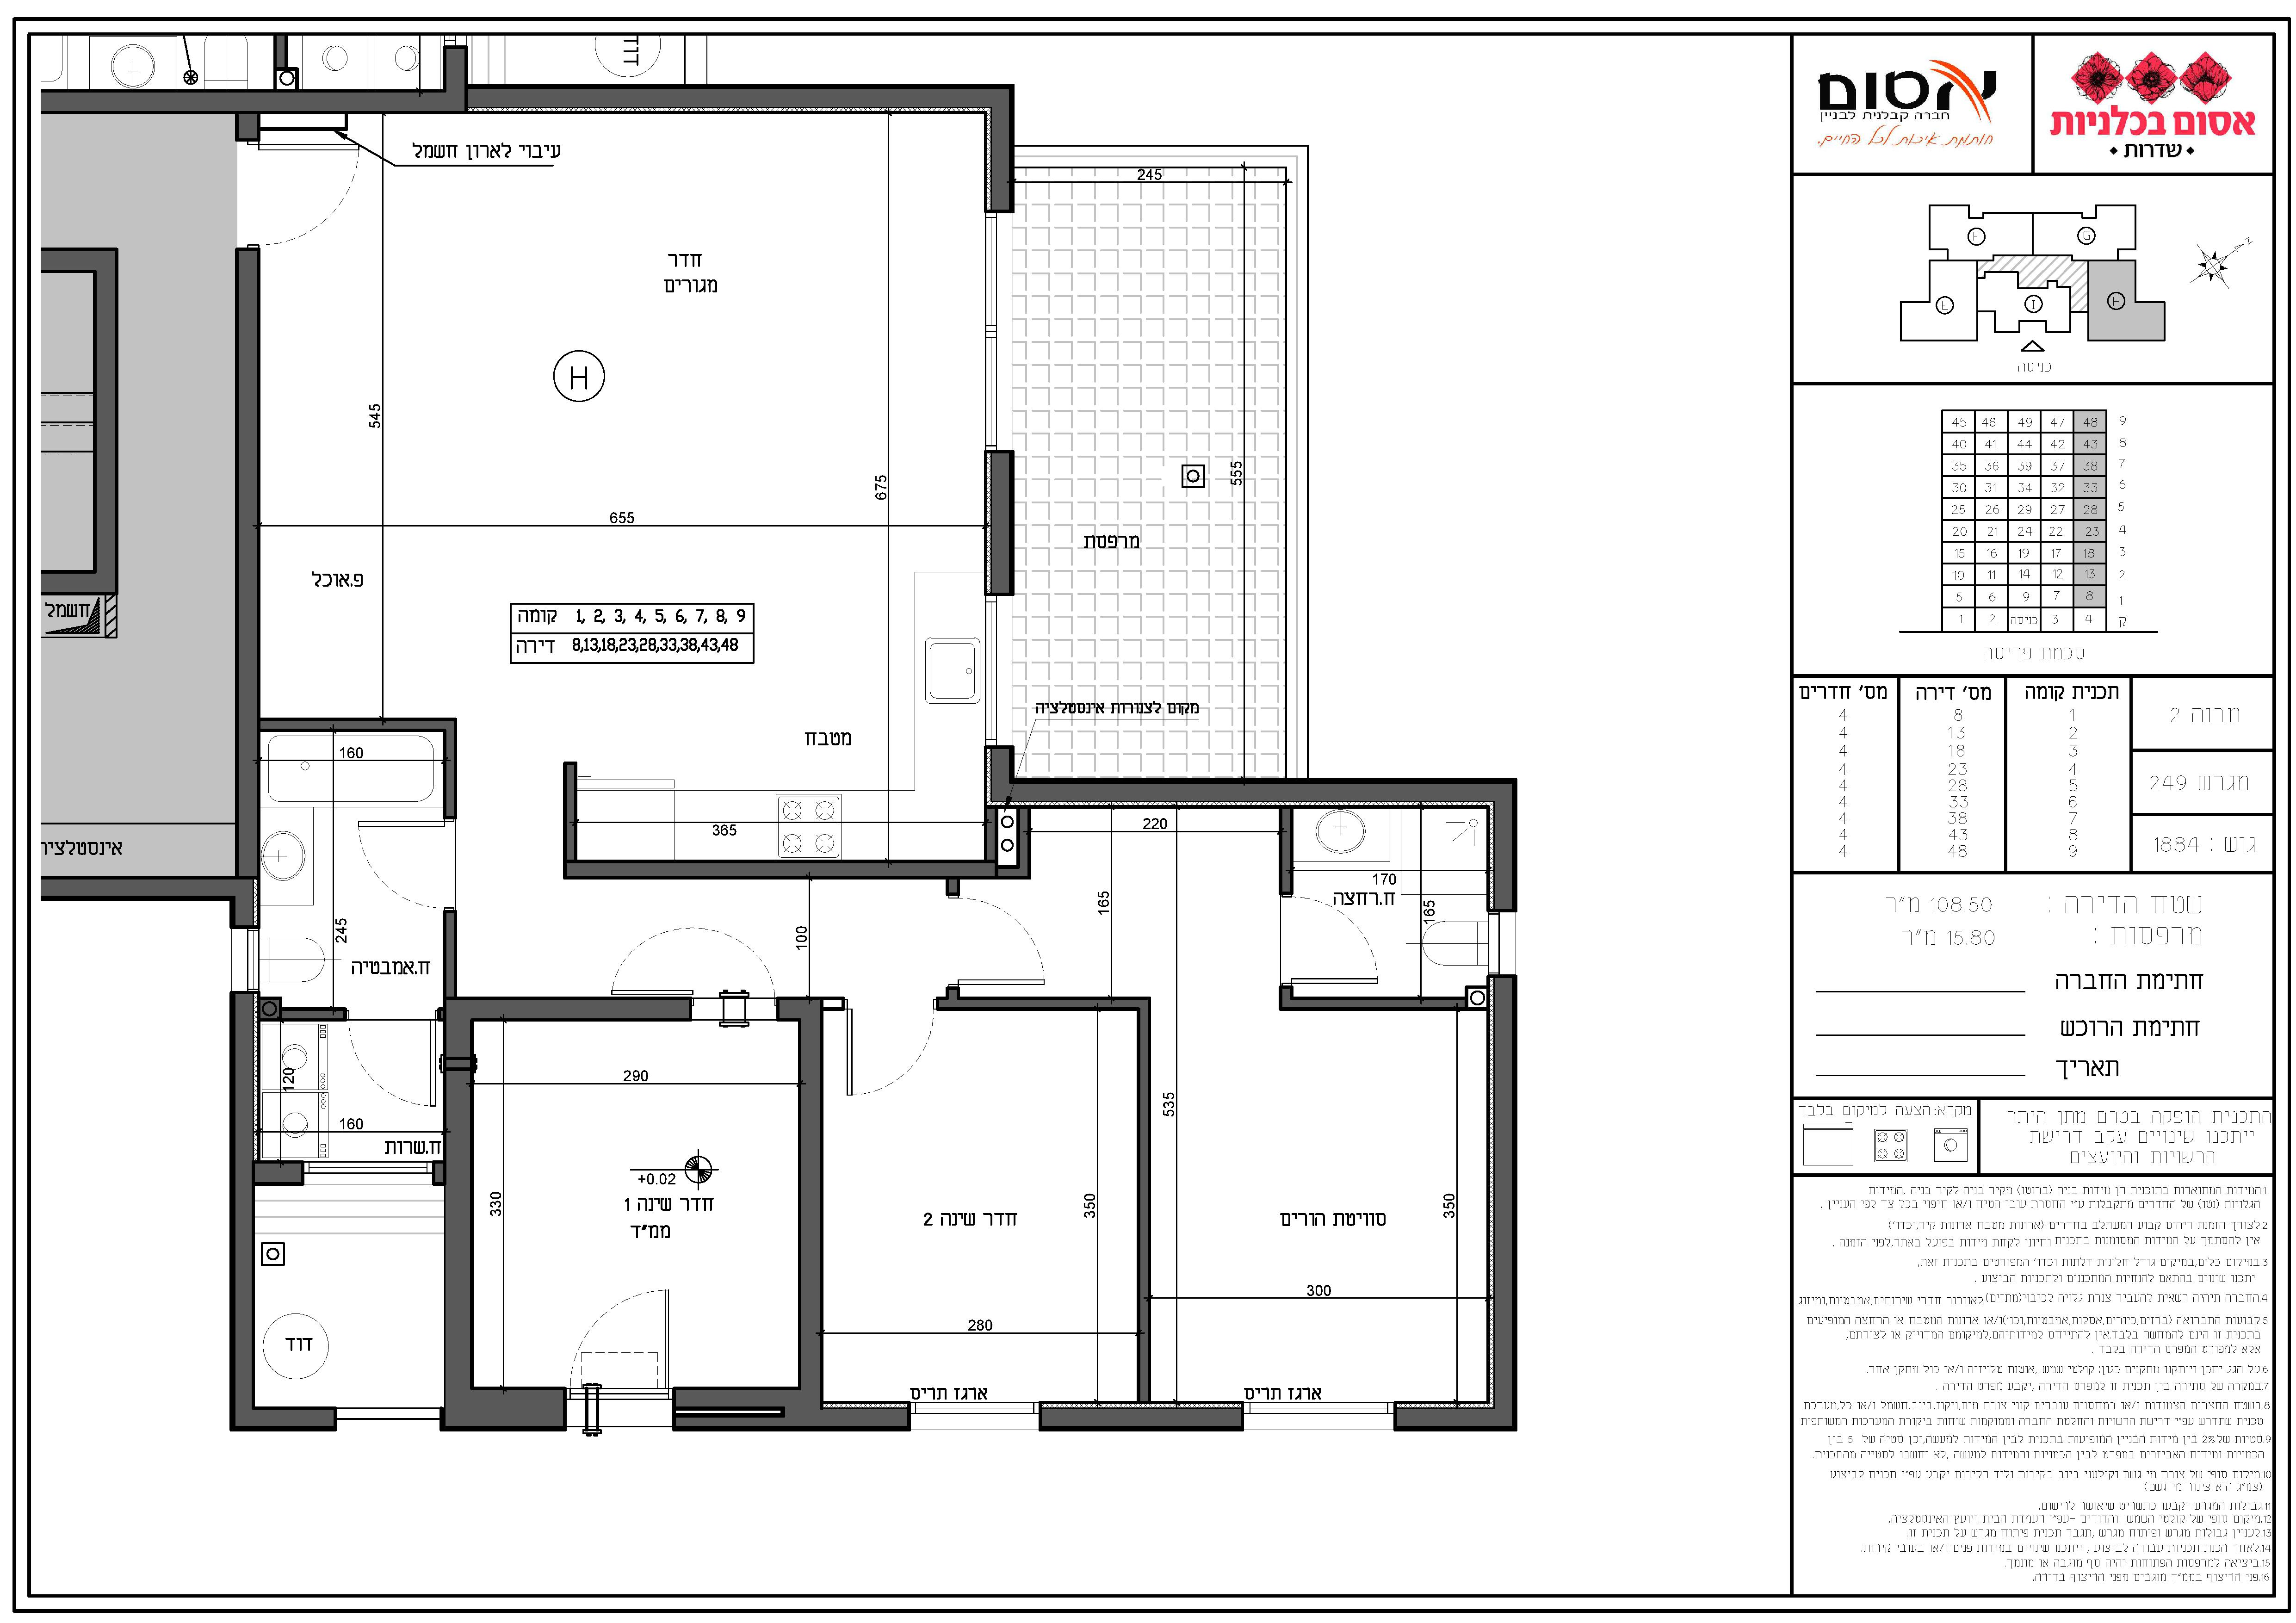door: (552, 1280, 687, 1379), (267, 135, 365, 256), (346, 815, 446, 922), (836, 1017, 949, 1107), (964, 885, 1058, 991), (1296, 885, 1390, 991), (339, 1026, 446, 1115)
wall: (991, 778, 1509, 813), (441, 998, 476, 1440), (1488, 973, 1520, 1430), (232, 992, 255, 1433), (799, 998, 822, 1428), (1038, 1403, 1245, 1432), (444, 998, 692, 1021)
window: (986, 213, 1014, 450), (986, 595, 1012, 748)
